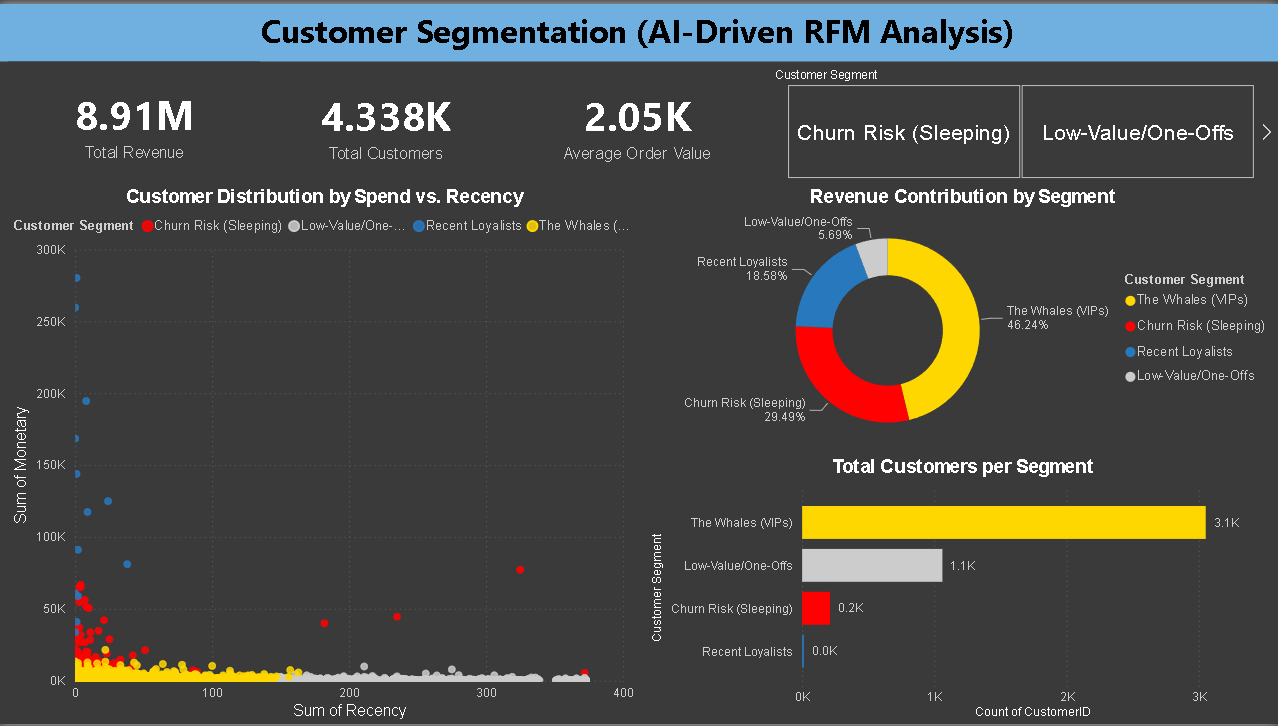

What the dashboard file says about the page in this screenshot:
{"tool":"powerbi","page":{"name":"Page 1","canvas":[1280,720],"ordinal":0},"visuals":[{"type":"shape","box":[0,0,1280,57.5],"z":0},{"type":"textbox","box":[0,0,1280,57.5],"z":1000},{"type":"cardVisual","fields":{"Data":["Sum(Sheet1.Monetary)"]},"box":[10,57.5,251.2,123.8],"z":2000},{"type":"cardVisual","fields":{"Data":["Count(Sheet1.CustomerID)"]},"box":[261.2,58.8,251.2,123.8],"z":3000},{"type":"cardVisual","fields":{"Data":["Avg(Sheet1.Monetary)"]},"box":[512.5,58.8,251.2,123.8],"z":4000},{"type":"scatterChart","title":"Customer Distribution by Spend vs. Recency","fields":{"X":["Sum(Sheet1.Recency)"],"Y":["Sum(Sheet1.Monetary)"],"Category":["Sheet1.CustomerID"],"Series":["Sheet1.Customer Segment"]},"box":[10,181.2,631.2,538.8],"z":5000},{"type":"donutChart","title":"Revenue Contribution by Segment","fields":{"Category":["Sheet1.Customer Segment"],"Y":["Sum(Sheet1.Monetary)"]},"box":[648.8,181.2,631.2,270],"z":6000},{"type":"clusteredBarChart","title":"Total Customers per Segment","fields":{"Category":["Sheet1.Customer Segment"],"Y":["Count(Sheet1.CustomerID)"]},"box":[648.8,451.2,631.2,268.8],"z":7000},{"type":"slicer","fields":{"Values":["Sheet1.Customer Segment"]},"box":[763.8,58.8,516.2,122.5],"z":7001}]}

Visuals, with their boxes in screenshot pixels (x1, y1, x2, y2), scaled from the page's 1280x720 canvas onto the 1278x726 screenshot:
shape: (x1=0, y1=0, x2=1277, y2=58)
textbox: (x1=0, y1=0, x2=1277, y2=58)
cardVisual - Sum(Sheet1.Monetary): (x1=10, y1=58, x2=261, y2=183)
cardVisual - Count(Sheet1.CustomerID): (x1=261, y1=59, x2=512, y2=184)
cardVisual - Avg(Sheet1.Monetary): (x1=512, y1=59, x2=763, y2=184)
"Customer Distribution by Spend vs. Recency" scatterChart: (x1=10, y1=183, x2=640, y2=725)
"Revenue Contribution by Segment" donutChart: (x1=648, y1=183, x2=1277, y2=455)
"Total Customers per Segment" clusteredBarChart: (x1=648, y1=455, x2=1277, y2=725)
slicer - Sheet1.Customer Segment: (x1=763, y1=59, x2=1277, y2=183)
